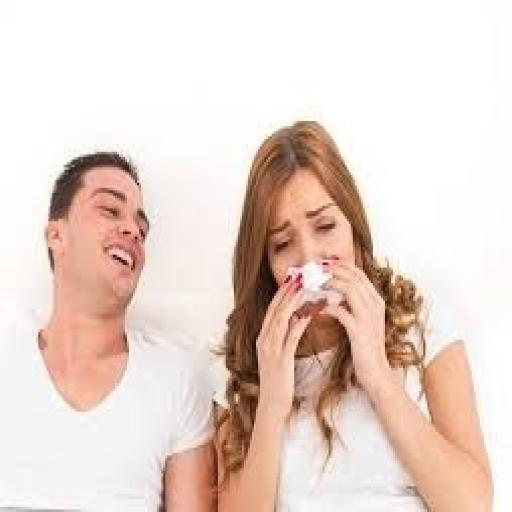laughing: (0, 108, 498, 509)
